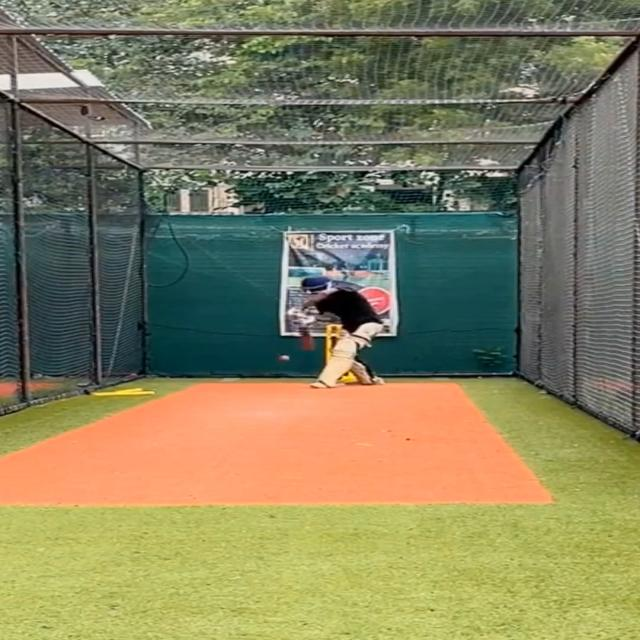ball: (277, 354, 292, 362)
stump: (324, 323, 342, 384)
